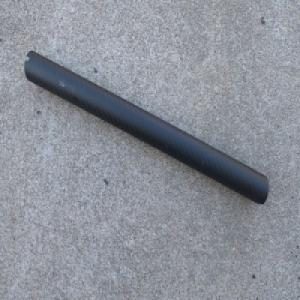LuggagePart: (23, 48, 269, 206)
